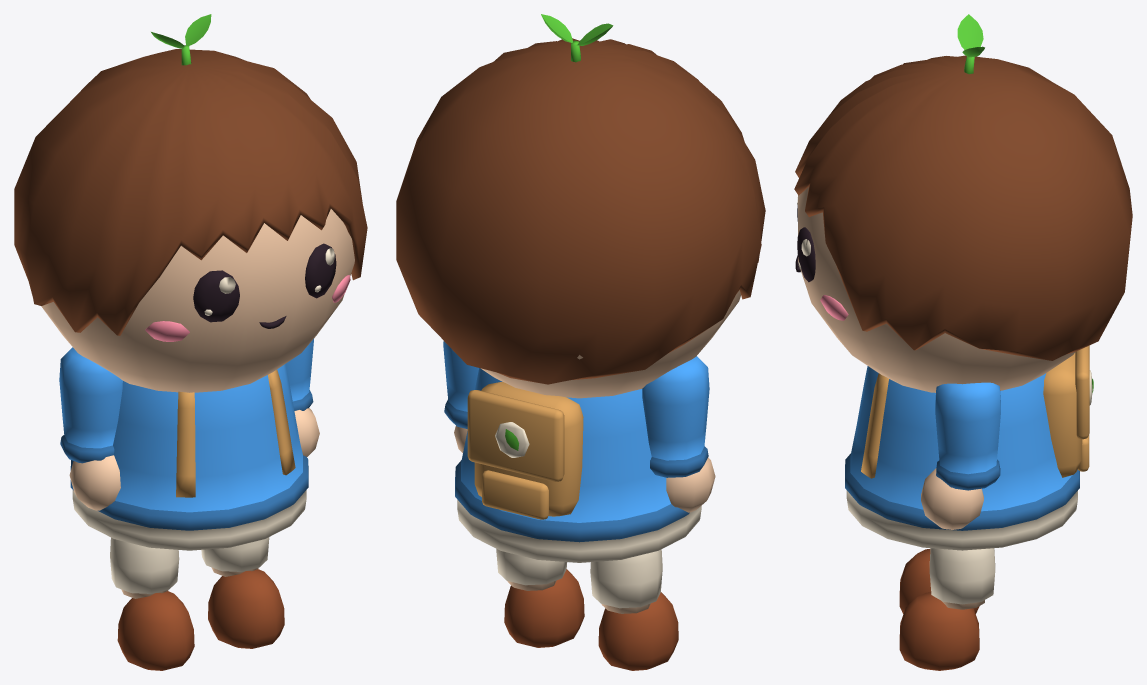
File: hero-man.glb
The picture shows the model from 3 angles, left to right: view 1: azimuth 30°, elevation 25°; view 2: azimuth 150°, elevation 25°; view 3: azimuth 270°, elevation 25°; orthographic projection. The views are drawn at different scales.
Visible parts, largest first — view 1: head, body, leg-left, arm-left, leg-right, arm-right, head-leaf; view 2: head, body, arm-left, leg-left, leg-right, arm-right, head-leaf; view 3: head, body, arm-right, leg-right, leg-left, head-leaf.
Boxes of the visible parts, left/top/right/bottom form: head: left=14, top=49, right=367, bottom=392; body: left=70, top=364, right=308, bottom=550; leg-left: left=110, top=537, right=194, bottom=670; arm-left: left=59, top=347, right=122, bottom=510; leg-right: left=201, top=537, right=284, bottom=648; arm-right: left=285, top=339, right=319, bottom=456; head-leaf: left=151, top=14, right=211, bottom=65; head: left=396, top=38, right=765, bottom=398; body: left=455, top=368, right=701, bottom=562; arm-left: left=642, top=356, right=715, bottom=512; leg-left: left=590, top=549, right=678, bottom=670; leg-right: left=496, top=549, right=584, bottom=647; arm-right: left=443, top=341, right=478, bottom=452; head-leaf: left=541, top=14, right=613, bottom=62; head: left=794, top=55, right=1132, bottom=392; body: left=845, top=345, right=1093, bottom=550; arm-right: left=921, top=382, right=1000, bottom=529; leg-right: left=899, top=548, right=995, bottom=670; leg-left: left=899, top=549, right=979, bottom=613; head-leaf: left=957, top=14, right=984, bottom=74.
Size of the model in its own units: 1.23 by 2.35 by 1.18.
